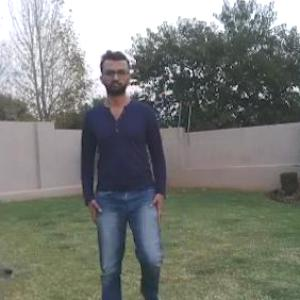follow: (87, 66, 159, 299)
